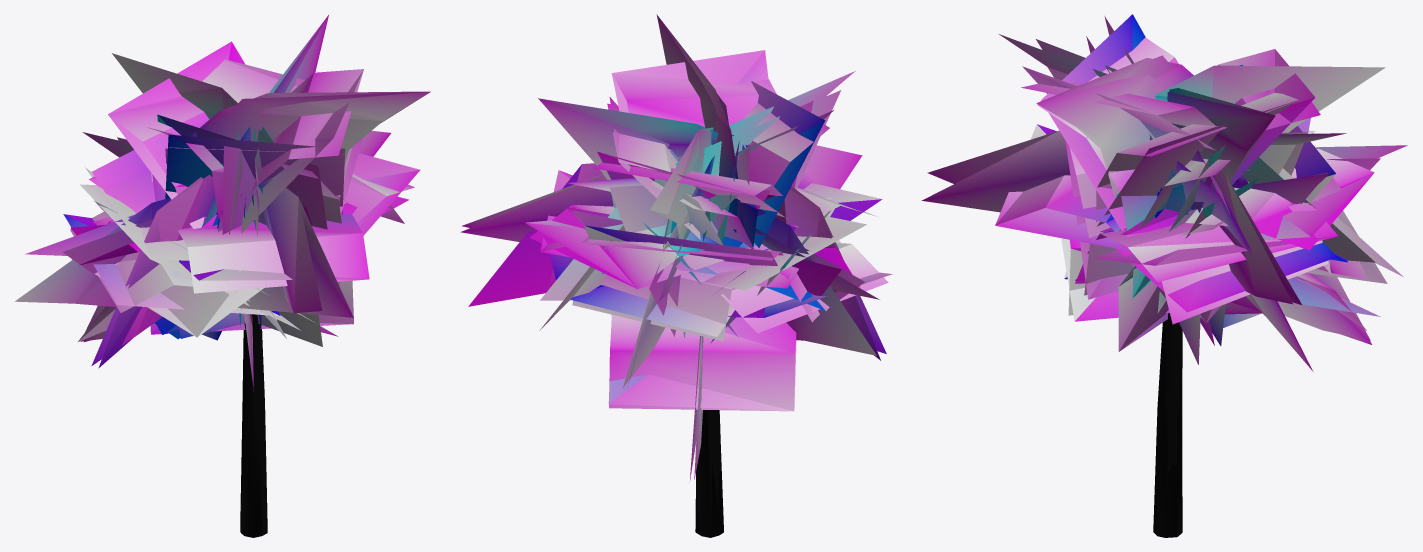
File: ekasia_tumula_01_d.dae
3 views of the same model, side by side, from view 1: azimuth 30°, elevation 25°; view 2: azimuth 150°, elevation 25°; view 3: azimuth 270°, elevation 25° (orthographic). The views are drawn at different scales.
Parts seen in each view (by area): view 1: ekasia160, ekasia80; view 2: ekasia160, ekasia80; view 3: ekasia80, ekasia160.
Part boxes in pixels (x1,y1,x2,y2): ekasia160: [15, 15, 430, 535]; ekasia80: [62, 15, 427, 537]; ekasia160: [462, 16, 888, 537]; ekasia80: [460, 14, 892, 537]; ekasia80: [922, 14, 1387, 537]; ekasia160: [927, 16, 1407, 536].
Size of what is drawn, in the model's own units: 14.42 by 14.15 by 15.68.
